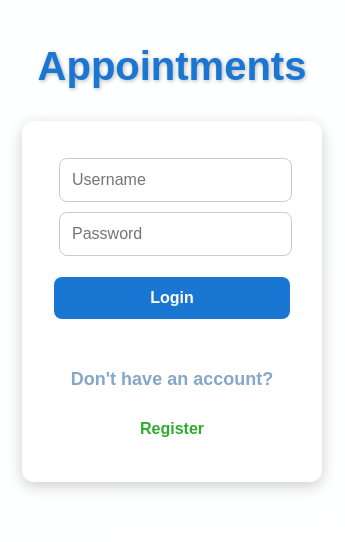
Test: Login Component › displays error message on login failure
Type "baduser" into the field with placeholder "Username".
click(176, 180); type("baduser")  # box 59,158 -> 292,202
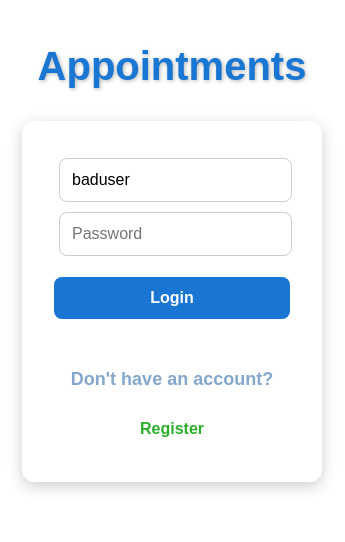
Type "badpass" into the password field with placeholder "Password".
click(176, 234); type("badpass")  # box 59,212 -> 292,256
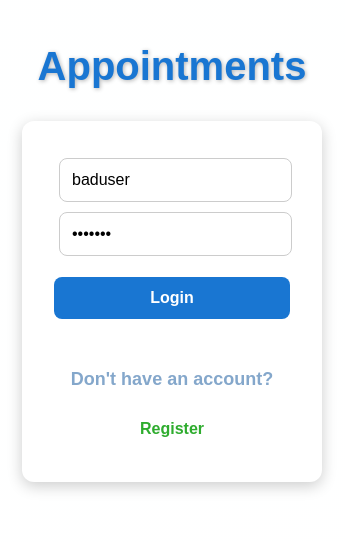
Click the button "Login".
click(172, 298)  # box 54,277 -> 290,319
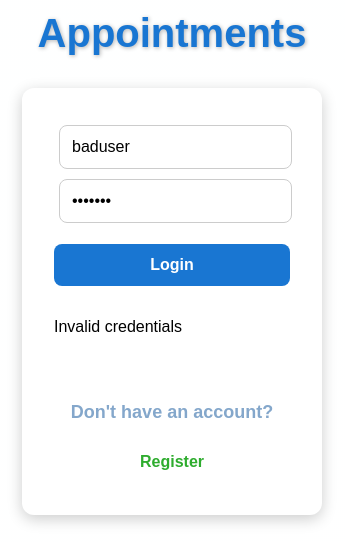
expect the text "Invalid credentials" is shown: met, box 54,318 -> 182,335
